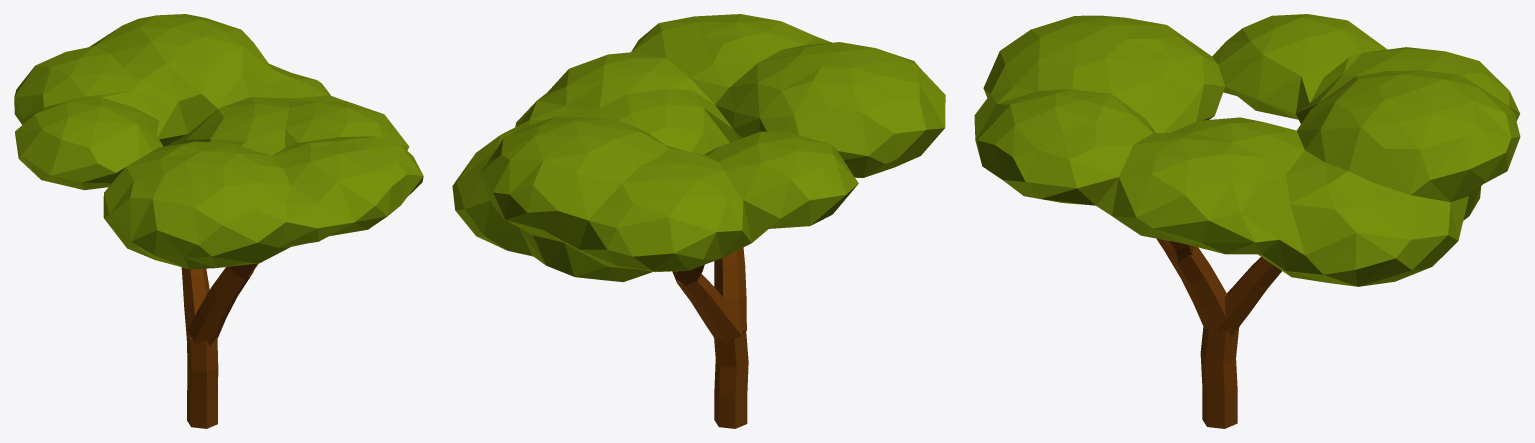
The model's file is SM__Savanna__Tree__Growth__2.fbx.
3 views of the same model, side by side, from view 1: azimuth 30°, elevation 25°; view 2: azimuth 150°, elevation 25°; view 3: azimuth 270°, elevation 25° (orthographic). The views are drawn at different scales.
Visible parts, largest first — view 1: normal9; view 2: normal9; view 3: normal9.
Boxes of the visible parts, x1=… form: normal9: x1=14, y1=14, x2=423, y2=428; normal9: x1=452, y1=14, x2=945, y2=428; normal9: x1=974, y1=14, x2=1520, y2=428.
Size of the model in its own units: 5.09 by 4.62 by 6.27.
